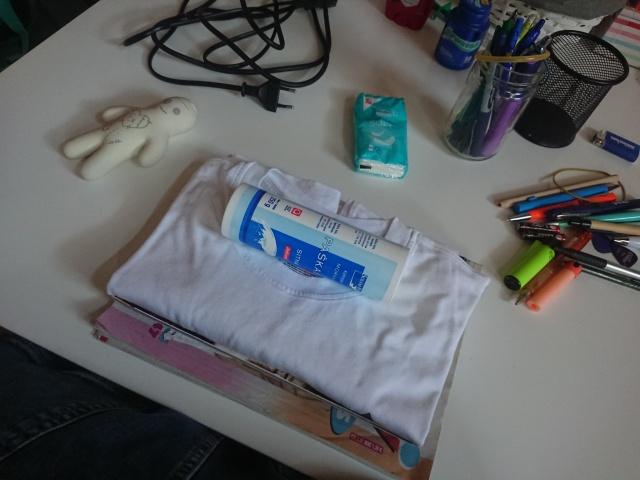Solana Pag Fine Sea Salt 250g: (218, 180, 413, 308)
